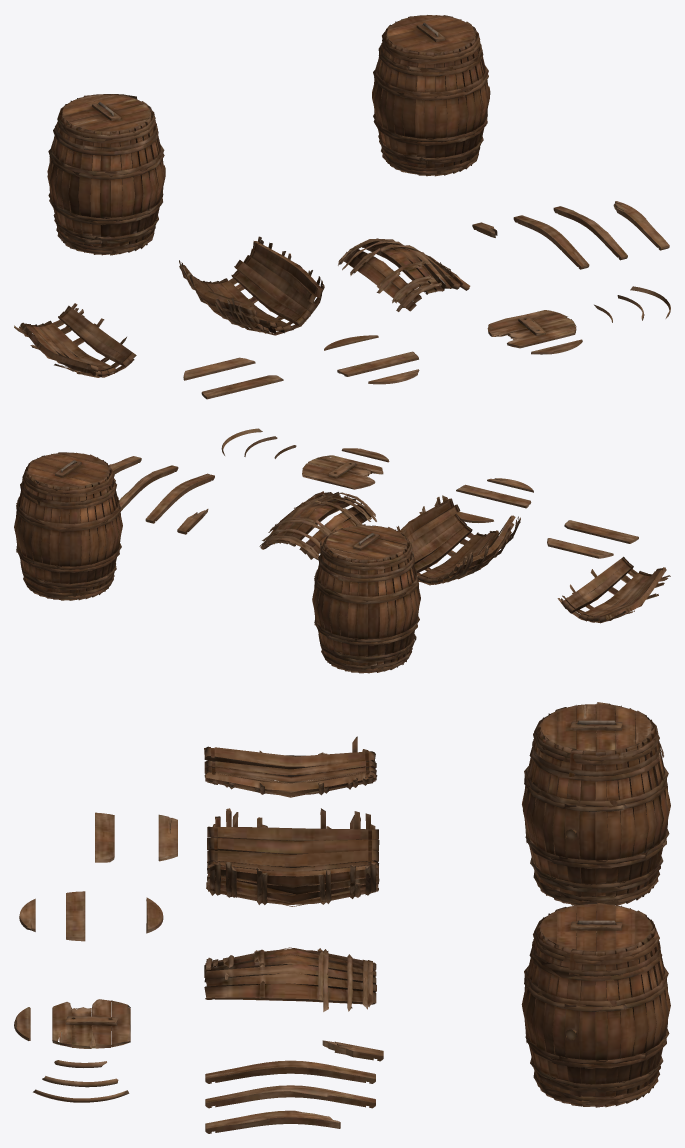
File: wooden_barrels_01.glb
3 views of the same model, one above another, from view 1: azimuth 30°, elevation 25°; view 2: azimuth 150°, elevation 25°; view 3: azimuth 270°, elevation 25° (orthographic). The views are drawn at different scales.
Visible parts, largest first — view 1: wooden_barrels_01_barrel02, wooden_barrels_01_barrel01, wooden_barrels_01_piece01, wooden_barrels_01_piece03, wooden_barrels_01_piece02, wooden_barrels_01_piece08, wooden_barrels_01_piece04, wooden_barrels_01_piece05, wooden_barrels_01_piece06, wooden_barrels_01_piece11, wooden_barrels_01_piece14, wooden_barrels_01_piece13; view 2: wooden_barrels_01_barrel02, wooden_barrels_01_barrel01, wooden_barrels_01_piece01, wooden_barrels_01_piece03, wooden_barrels_01_piece02, wooden_barrels_01_piece08, wooden_barrels_01_piece04, wooden_barrels_01_piece14, wooden_barrels_01_piece11, wooden_barrels_01_piece05, wooden_barrels_01_piece13; view 3: wooden_barrels_01_barrel01, wooden_barrels_01_barrel02, wooden_barrels_01_piece01, wooden_barrels_01_piece03, wooden_barrels_01_piece02, wooden_barrels_01_piece08, wooden_barrels_01_piece04, wooden_barrels_01_piece05, wooden_barrels_01_piece06, wooden_barrels_01_piece11, wooden_barrels_01_piece14, wooden_barrels_01_piece13 (+1 smaller).
Part boxes in pixels (x1,y1,x2,y2): wooden_barrels_01_barrel02: (47, 94, 165, 255); wooden_barrels_01_barrel01: (372, 15, 490, 176); wooden_barrels_01_piece01: (179, 236, 324, 335); wooden_barrels_01_piece03: (338, 238, 470, 311); wooden_barrels_01_piece02: (14, 303, 136, 377); wooden_barrels_01_piece08: (487, 310, 576, 348); wooden_barrels_01_piece04: (513, 215, 589, 269); wooden_barrels_01_piece05: (553, 206, 627, 260); wooden_barrels_01_piece06: (613, 201, 669, 250); wooden_barrels_01_piece11: (337, 351, 418, 376); wooden_barrels_01_piece14: (201, 375, 283, 399); wooden_barrels_01_piece13: (183, 357, 255, 380); wooden_barrels_01_barrel02: (312, 524, 420, 673); wooden_barrels_01_barrel01: (14, 452, 122, 600); wooden_barrels_01_piece01: (396, 495, 520, 585); wooden_barrels_01_piece03: (259, 491, 376, 560); wooden_barrels_01_piece02: (557, 556, 670, 623); wooden_barrels_01_piece08: (302, 455, 383, 489); wooden_barrels_01_piece04: (145, 473, 214, 523); wooden_barrels_01_piece14: (564, 520, 638, 543); wooden_barrels_01_piece11: (456, 484, 531, 508); wooden_barrels_01_piece05: (119, 465, 178, 510); wooden_barrels_01_piece13: (547, 538, 613, 558); wooden_barrels_01_barrel01: (521, 902, 670, 1107); wooden_barrels_01_barrel02: (522, 702, 670, 905); wooden_barrels_01_piece01: (206, 808, 379, 906); wooden_barrels_01_piece03: (204, 947, 376, 1011); wooden_barrels_01_piece02: (204, 736, 377, 797); wooden_barrels_01_piece08: (52, 999, 130, 1048); wooden_barrels_01_piece04: (205, 1060, 375, 1083); wooden_barrels_01_piece05: (205, 1085, 375, 1108); wooden_barrels_01_piece06: (205, 1110, 340, 1133); wooden_barrels_01_piece11: (66, 891, 85, 941); wooden_barrels_01_piece14: (95, 812, 114, 862); wooden_barrels_01_piece13: (158, 814, 177, 861).
Bounding box in the file's own units: 4.44 × 0.9554 × 3.35.
3 materials, 3 textured.
